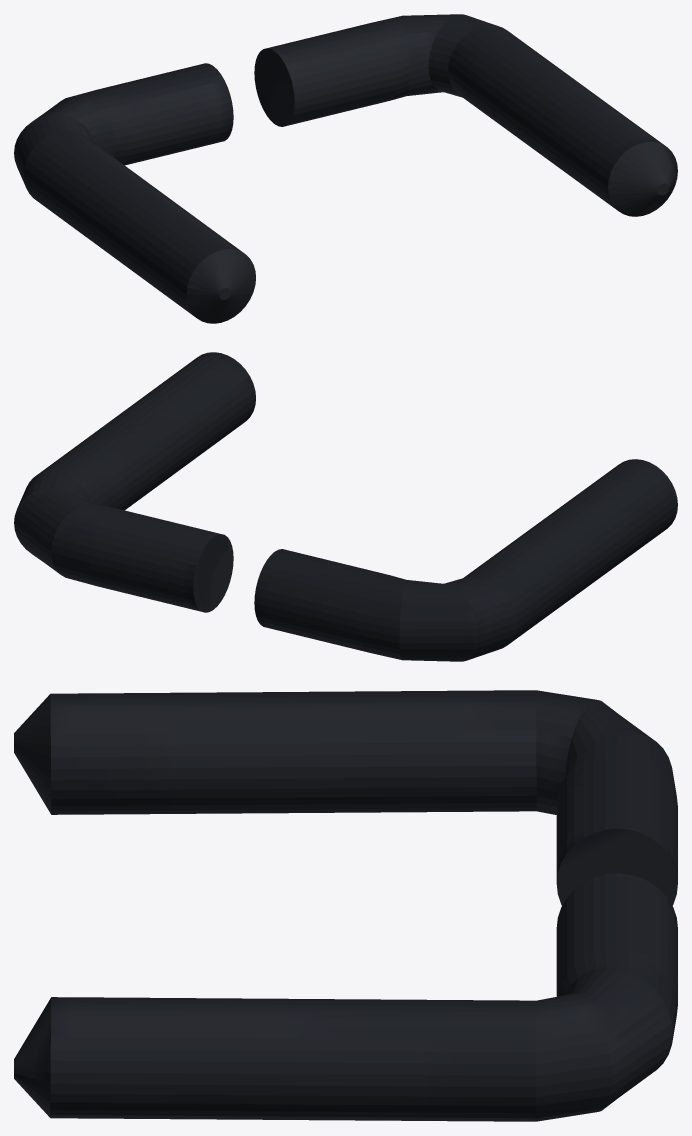
The model's file is DoorKnob.fbx.
The picture shows the model from 3 angles, top to bottom: view 1: azimuth 30°, elevation 25°; view 2: azimuth 150°, elevation 25°; view 3: azimuth 270°, elevation 25°; orthographic projection. The views are drawn at different scales.
Visible parts, largest first — view 1: DoorKnobRight; view 2: DoorKnobRight; view 3: DoorKnobRight.
Part boxes in pixels (x1=…): DoorKnobRight: x1=14, y1=14, x2=677, y2=323; DoorKnobRight: x1=14, y1=352, x2=677, y2=661; DoorKnobRight: x1=14, y1=690, x2=677, y2=1121.
Bounding box in the file's own units: 849 × 127 × 657.
